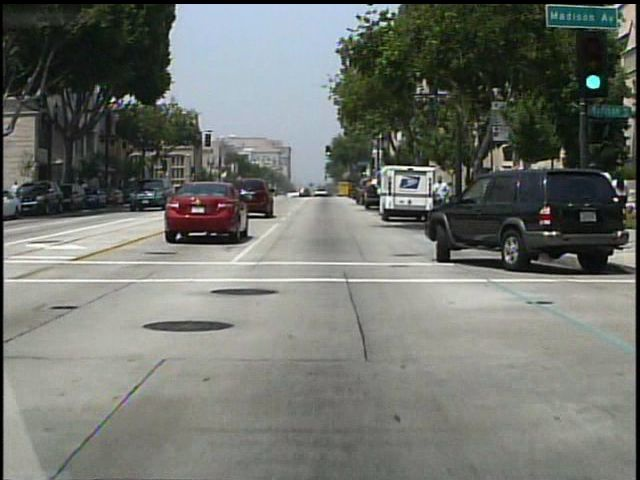person: (428, 172, 451, 224), (351, 180, 367, 209), (12, 180, 23, 208)
